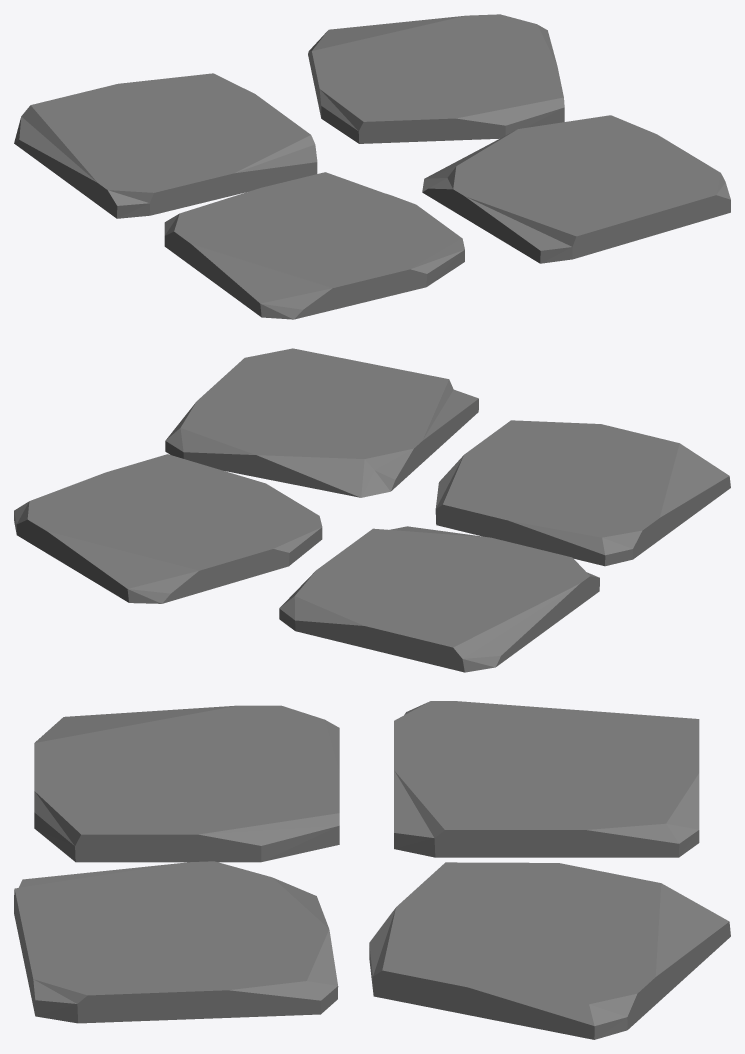
File: Tile_10.FBX
3 views of the same model, one above another, from view 1: azimuth 30°, elevation 25°; view 2: azimuth 150°, elevation 25°; view 3: azimuth 270°, elevation 25° (orthographic). The views are drawn at different scales.
Parts seen in each view (by area): view 1: Tile_10; view 2: Tile_10; view 3: Tile_10.
Boxes of the visible parts, x1=… form: Tile_10: x1=14, y1=14, x2=730, y2=319; Tile_10: x1=14, y1=348, x2=730, y2=672; Tile_10: x1=14, y1=701, x2=730, y2=1039.
Size of the model in its own units: 3.62 by 0.15 by 3.52.
